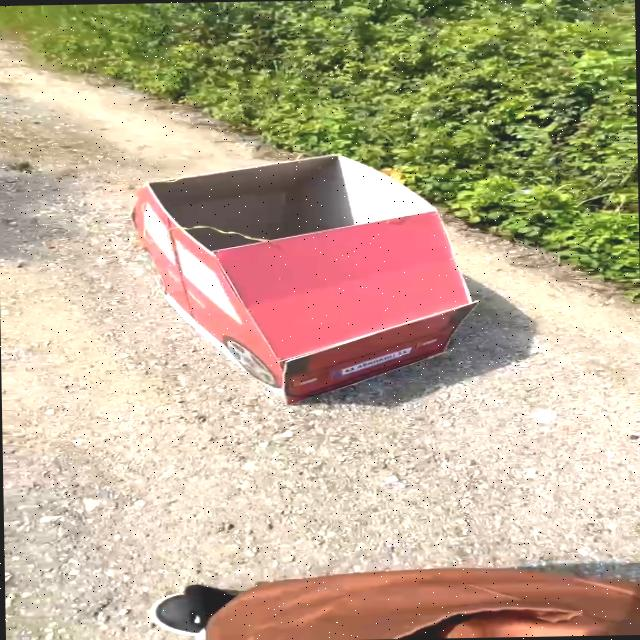red_car: (58, 138, 554, 399)
